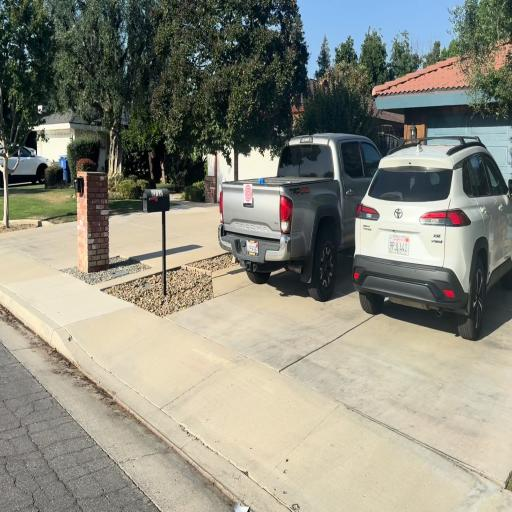bullseye: (244, 184, 252, 203)
